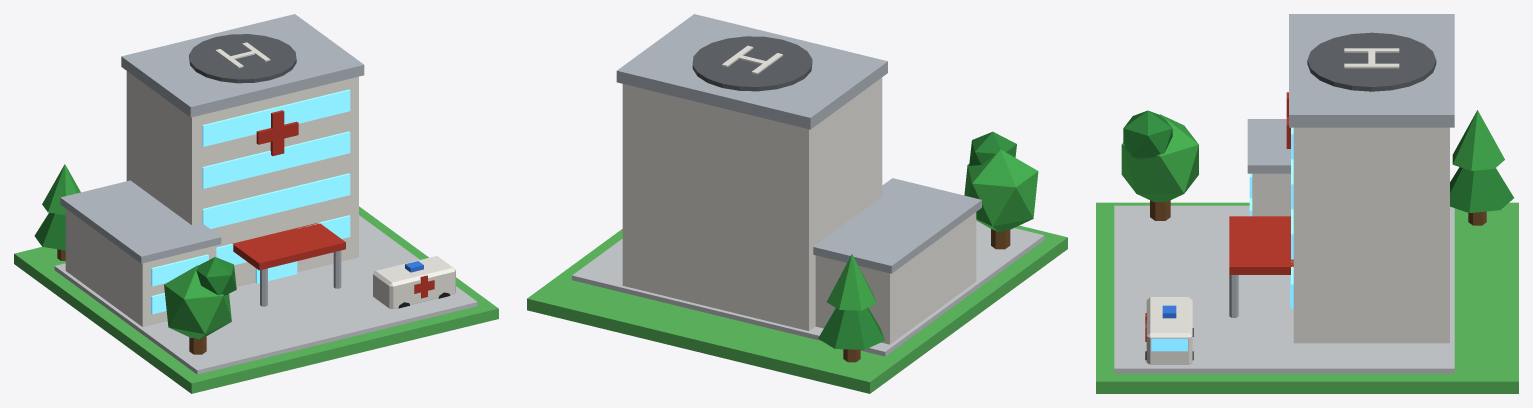
File: sc-hospital-CXv809g2.glb
3 views of the same model, side by side, from view 1: azimuth 30°, elevation 25°; view 2: azimuth 150°, elevation 25°; view 3: azimuth 270°, elevation 25° (orthographic). The views are drawn at different scales.
Parts seen in each view (by area): view 1: sc-hospital; view 2: sc-hospital; view 3: sc-hospital.
Part boxes in pixels (x1,y1,x2,y2): sc-hospital: (14, 14, 498, 393); sc-hospital: (527, 14, 1067, 393); sc-hospital: (1096, 14, 1518, 393).
Bounding box in the file's own units: 0.92 × 0.612 × 0.92.
